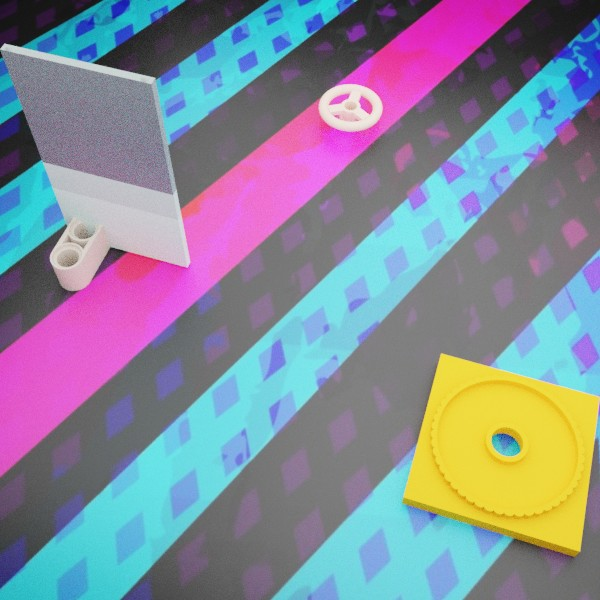lego: (0, 43, 190, 267), (401, 353, 600, 556), (49, 141, 150, 290), (318, 84, 382, 131)
